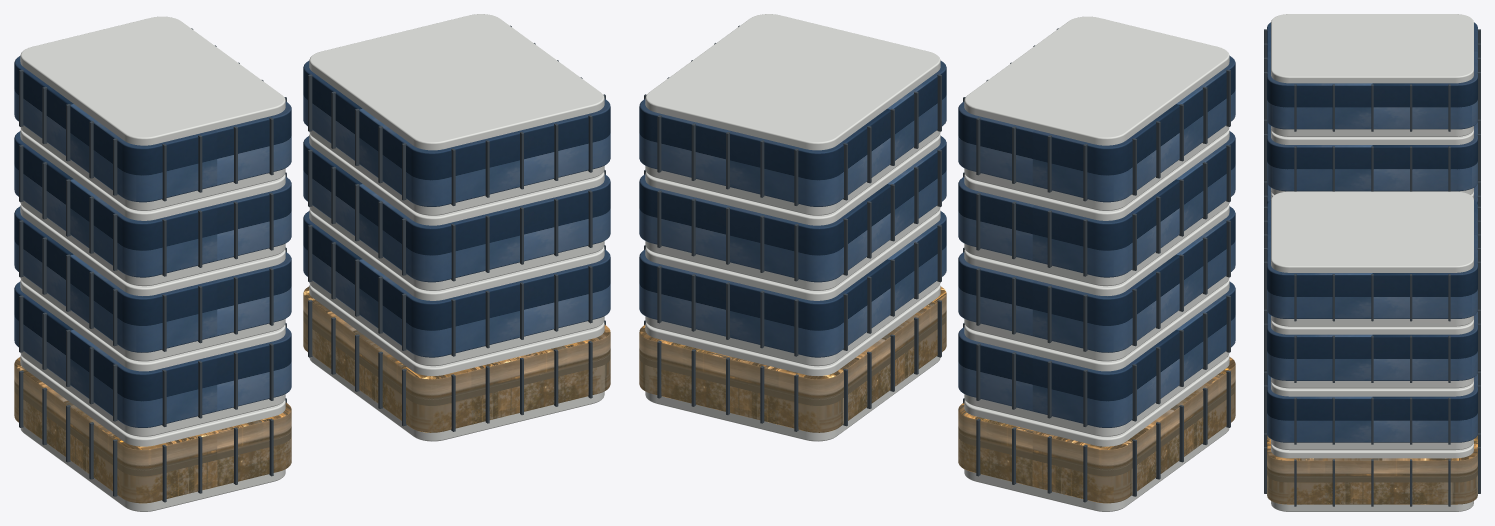
The model's file is body.glb.
The picture shows the model from 3 angles, left to right: view 1: azimuth 30°, elevation 25°; view 2: azimuth 150°, elevation 25°; view 3: azimuth 270°, elevation 25°; orthographic projection. The views are drawn at different scales.
Parts seen in each view (by area): view 1: body; view 2: body; view 3: body.
Boxes of the visible parts, x1,y1,x2,y2 form: body: (14, 14, 610, 511); body: (639, 14, 1235, 511); body: (1264, 14, 1480, 511).
Size of the model in its own units: 5.75 by 4.18 by 2.67.
4 materials, 2 textured.
